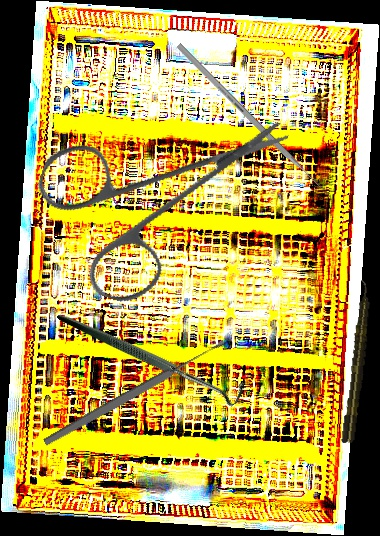Handpiece: (340, 279, 375, 445)
Hook Surgical: (56, 251, 251, 458)
Iris Scissors: (11, 57, 292, 336)
Pusher: (176, 43, 333, 200)
Surgical Spoon: (41, 338, 228, 448)
